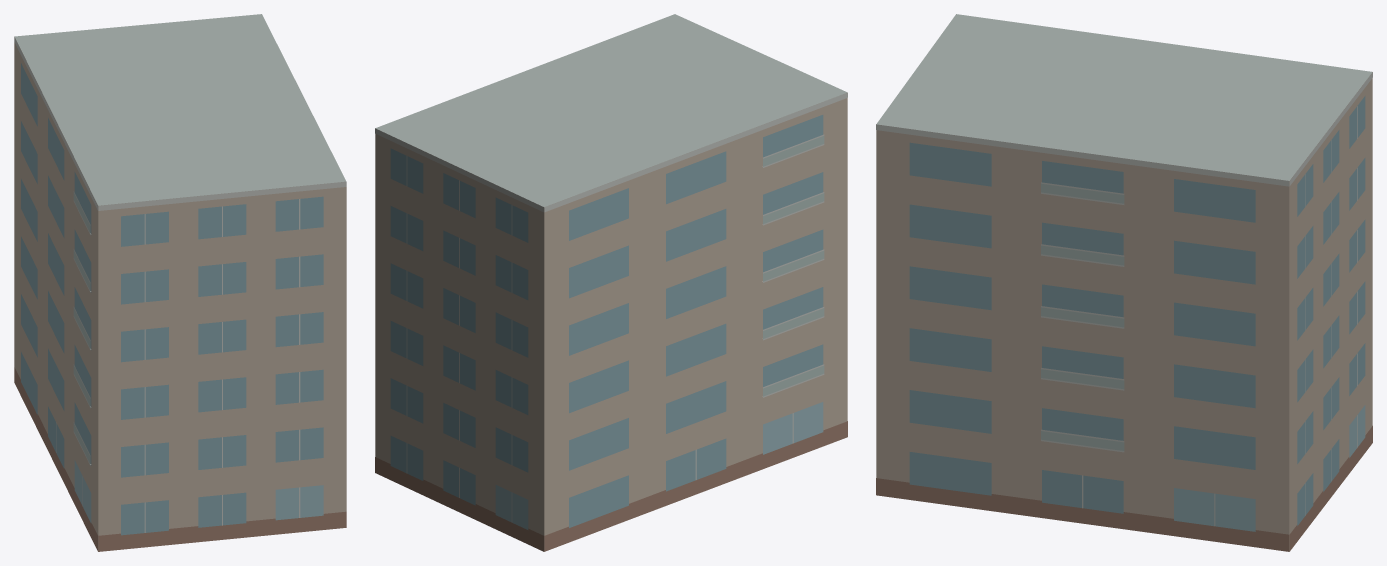
Rendered from survey-upis-33004770.glb.
The picture shows the model from 3 angles, left to right: view 1: azimuth 30°, elevation 25°; view 2: azimuth 150°, elevation 25°; view 3: azimuth 270°, elevation 25°; orthographic projection. The views are drawn at different scales.
Visible parts, largest first — view 1: survey-upis-33004770.tmp; view 2: survey-upis-33004770.tmp; view 3: survey-upis-33004770.tmp.
Boxes of the visible parts, x1,y1,x2,y2 form: survey-upis-33004770.tmp: (14,14,346,551); survey-upis-33004770.tmp: (375,14,847,551); survey-upis-33004770.tmp: (876,14,1372,551).
Size of the model in its own units: 15.36 by 15.9 by 19.3.
